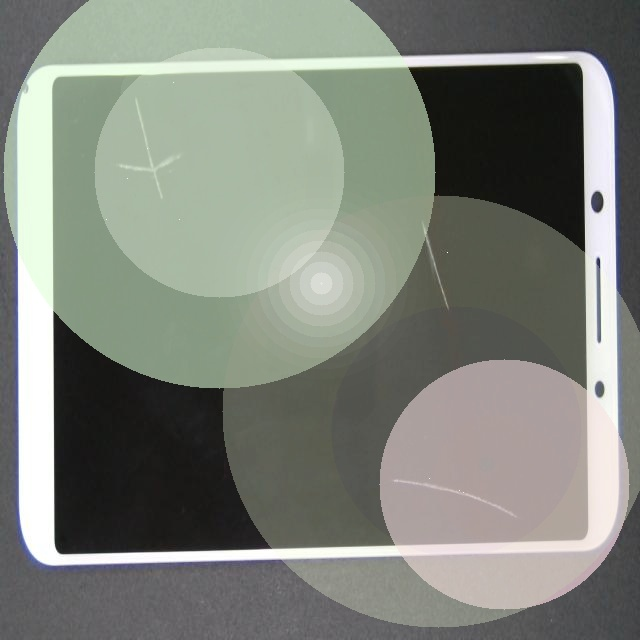scratch: (202, 212, 572, 640), (195, 60, 617, 386), (105, 102, 233, 183)
